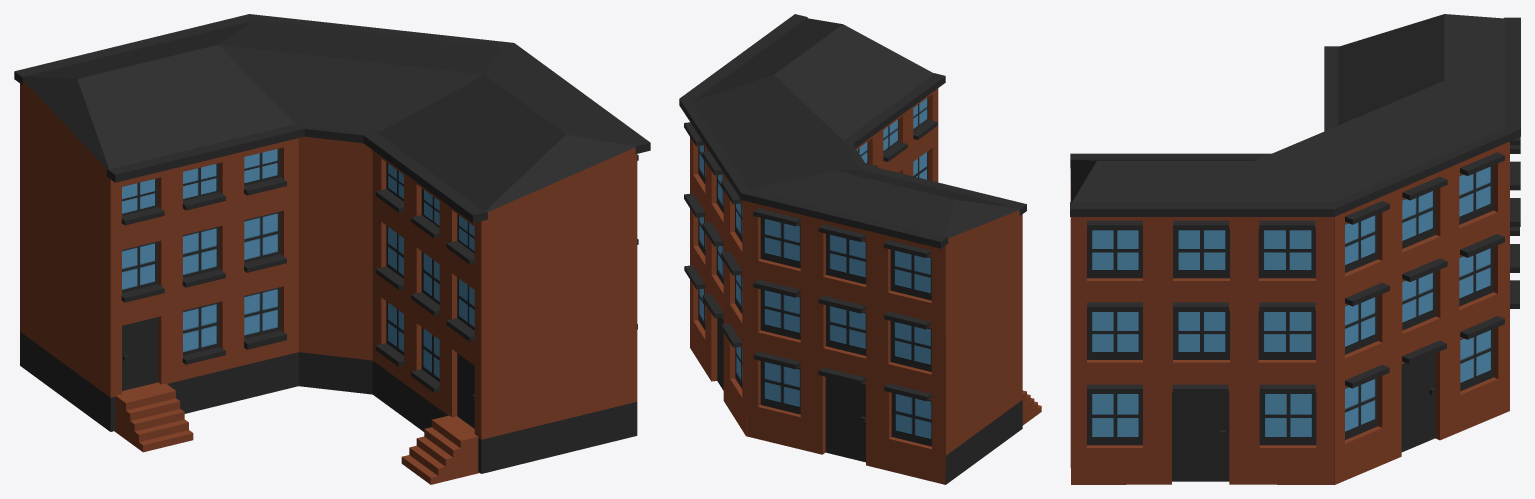
The model's file is JazzAngle1.obj.
3 renders of one model, left to right at view 1: azimuth 30°, elevation 25°; view 2: azimuth 150°, elevation 25°; view 3: azimuth 270°, elevation 25°, orthographic. The views are drawn at different scales.
Parts seen in each view (by area): view 1: RogZwykly; view 2: RogZwykly; view 3: RogZwykly.
Boxes of the visible parts, x1,y1,x2,y2 form: RogZwykly: (14, 14, 650, 484); RogZwykly: (679, 14, 1041, 484); RogZwykly: (1070, 14, 1520, 484).
Size of the model in its own units: 12.9 by 9.37 by 12.84.
